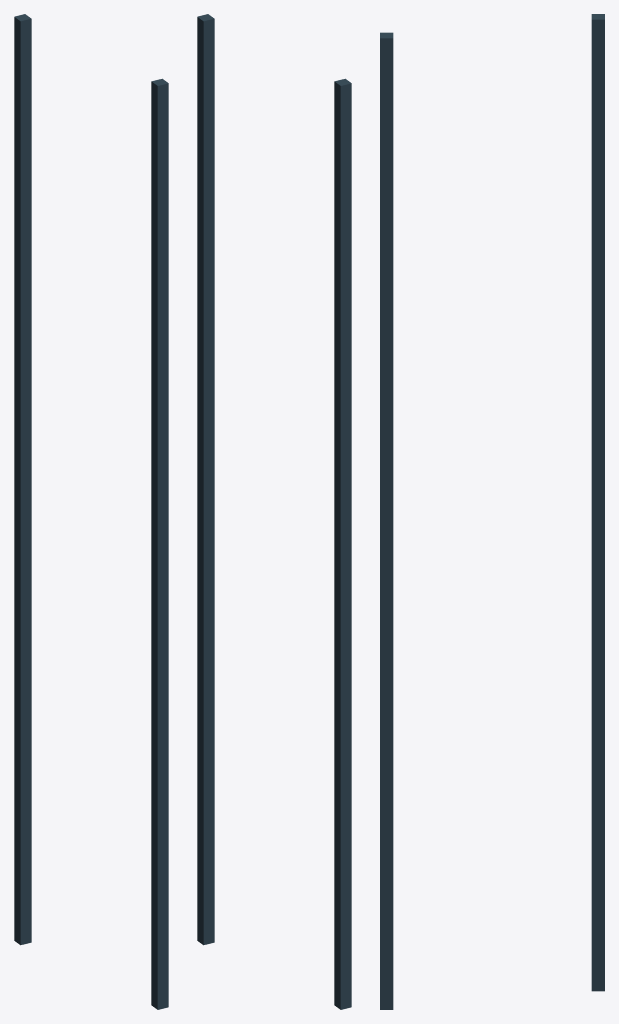
File: v02-transit-world-03-01-06.glb
3 renders of one model, left to right at view 1: azimuth 30°, elevation 25°; view 2: azimuth 210°, elevation 25°; view 3: azimuth 270°, elevation 25°, orthographic. The views are drawn at different scales.
Visible parts, largest first — view 1: v02-transit-world-03-01-06; view 2: v02-transit-world-03-01-06; view 3: v02-transit-world-03-01-06.
Boxes of the visible parts, bbox=[...] form: v02-transit-world-03-01-06: bbox=[14, 14, 168, 1009]; v02-transit-world-03-01-06: bbox=[197, 14, 351, 1009]; v02-transit-world-03-01-06: bbox=[380, 14, 604, 1009].
Size of the model in its own units: 5.2 by 96.25 by 20.2.
